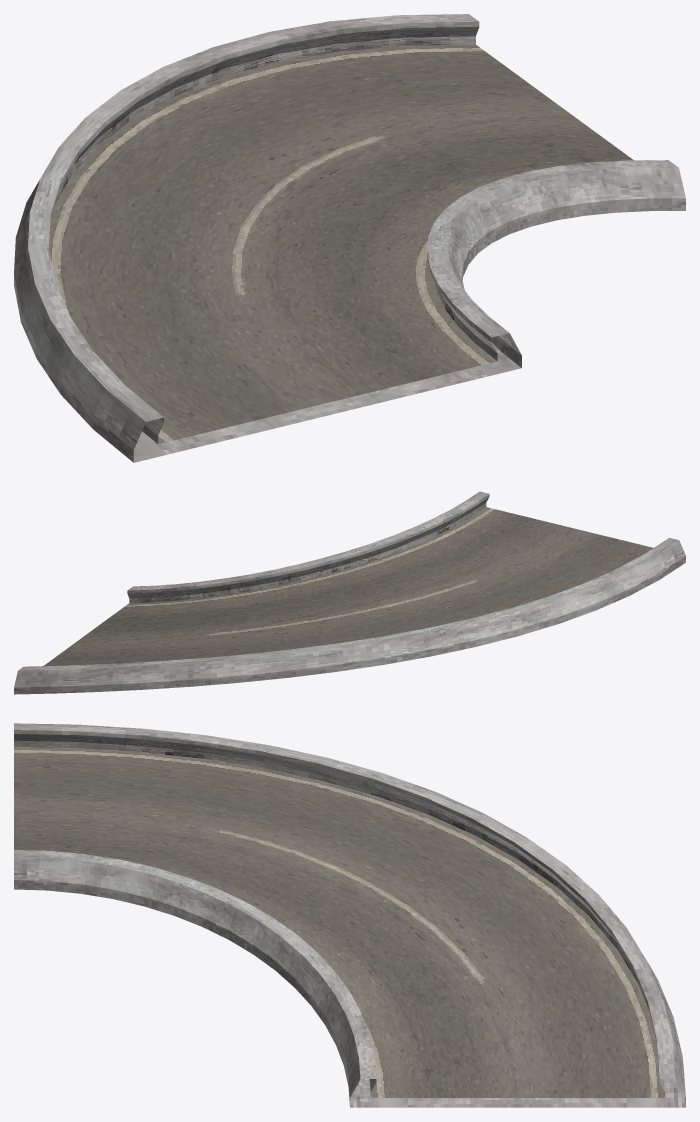
File: road-Turn-Flat-BiSlopeDown-Down1-Right-Size2.glb
3 renders of one model, top to bottom at view 1: azimuth 30°, elevation 25°; view 2: azimuth 150°, elevation 25°; view 3: azimuth 270°, elevation 25°, orthographic. The views are drawn at different scales.
Parts seen in each view (by area): view 1: road-Turn-Flat-BiSlopeDown-Down1-Right-Size2; view 2: road-Turn-Flat-BiSlopeDown-Down1-Right-Size2; view 3: road-Turn-Flat-BiSlopeDown-Down1-Right-Size2.
Boxes of the visible parts, x1=… form: road-Turn-Flat-BiSlopeDown-Down1-Right-Size2: x1=14, y1=14, x2=685, y2=462; road-Turn-Flat-BiSlopeDown-Down1-Right-Size2: x1=14, y1=491, x2=685, y2=694; road-Turn-Flat-BiSlopeDown-Down1-Right-Size2: x1=14, y1=723, x2=685, y2=1107.
Size of the model in its own units: 2 by 0.3441 by 2.
2 materials, 2 textured.
